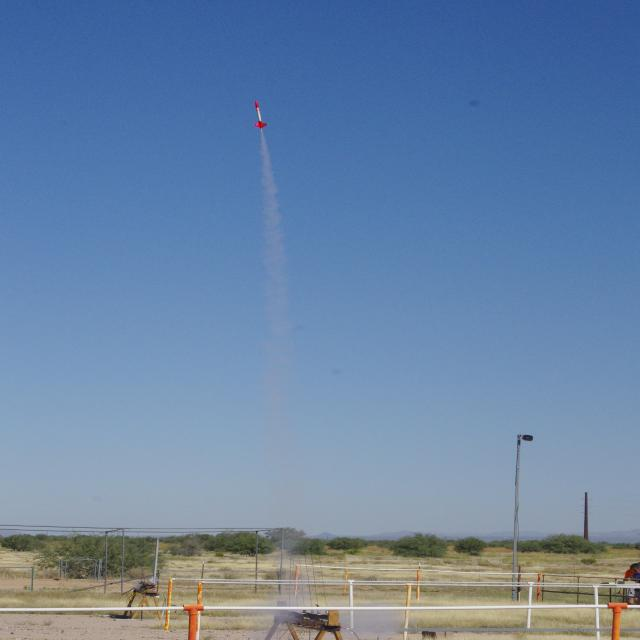Rocket: (252, 100, 268, 130)
